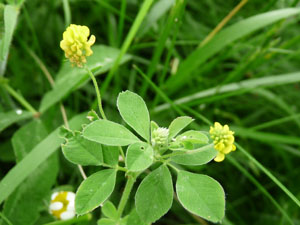clover: (52, 8, 239, 224)
